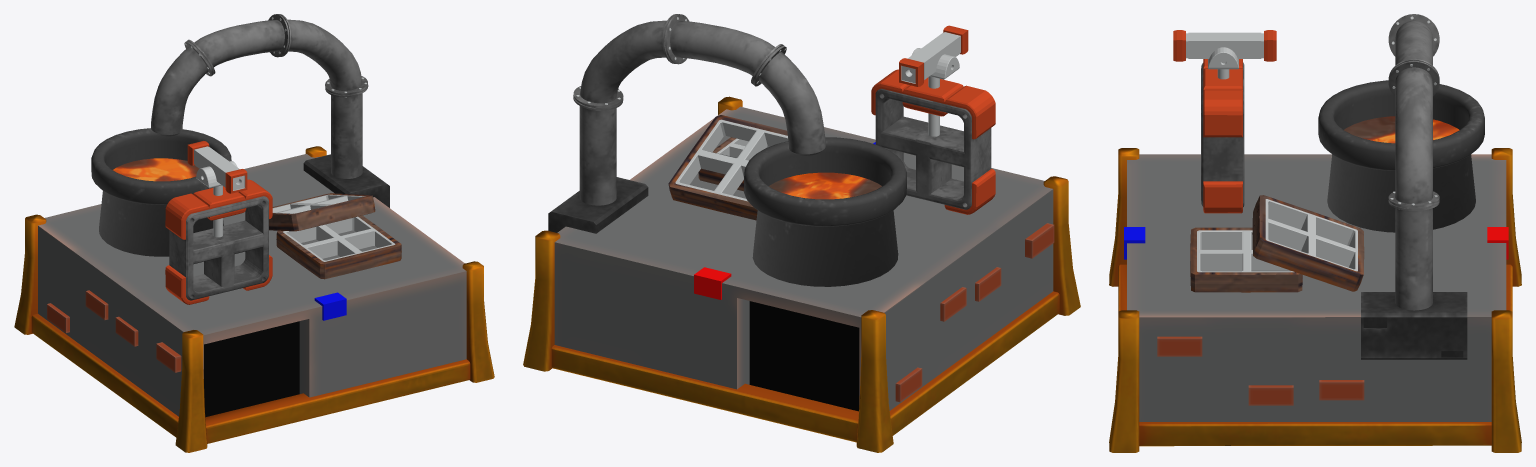
3 renders of one model, left to right at view 1: azimuth 30°, elevation 25°; view 2: azimuth 150°, elevation 25°; view 3: azimuth 270°, elevation 25°, orthographic. The views are drawn at different scales.
Visible parts, largest first — view 1: HP.002_Baked; view 2: HP.002_Baked; view 3: HP.002_Baked.
Boxes of the visible parts, x1,y1,x2,y2 form: HP.002_Baked: [14, 14, 494, 452]; HP.002_Baked: [523, 14, 1080, 452]; HP.002_Baked: [1109, 14, 1521, 452].
Size of the model in its own units: 200 by 179 by 195.
Materials: 1 (1 with a texture image).
